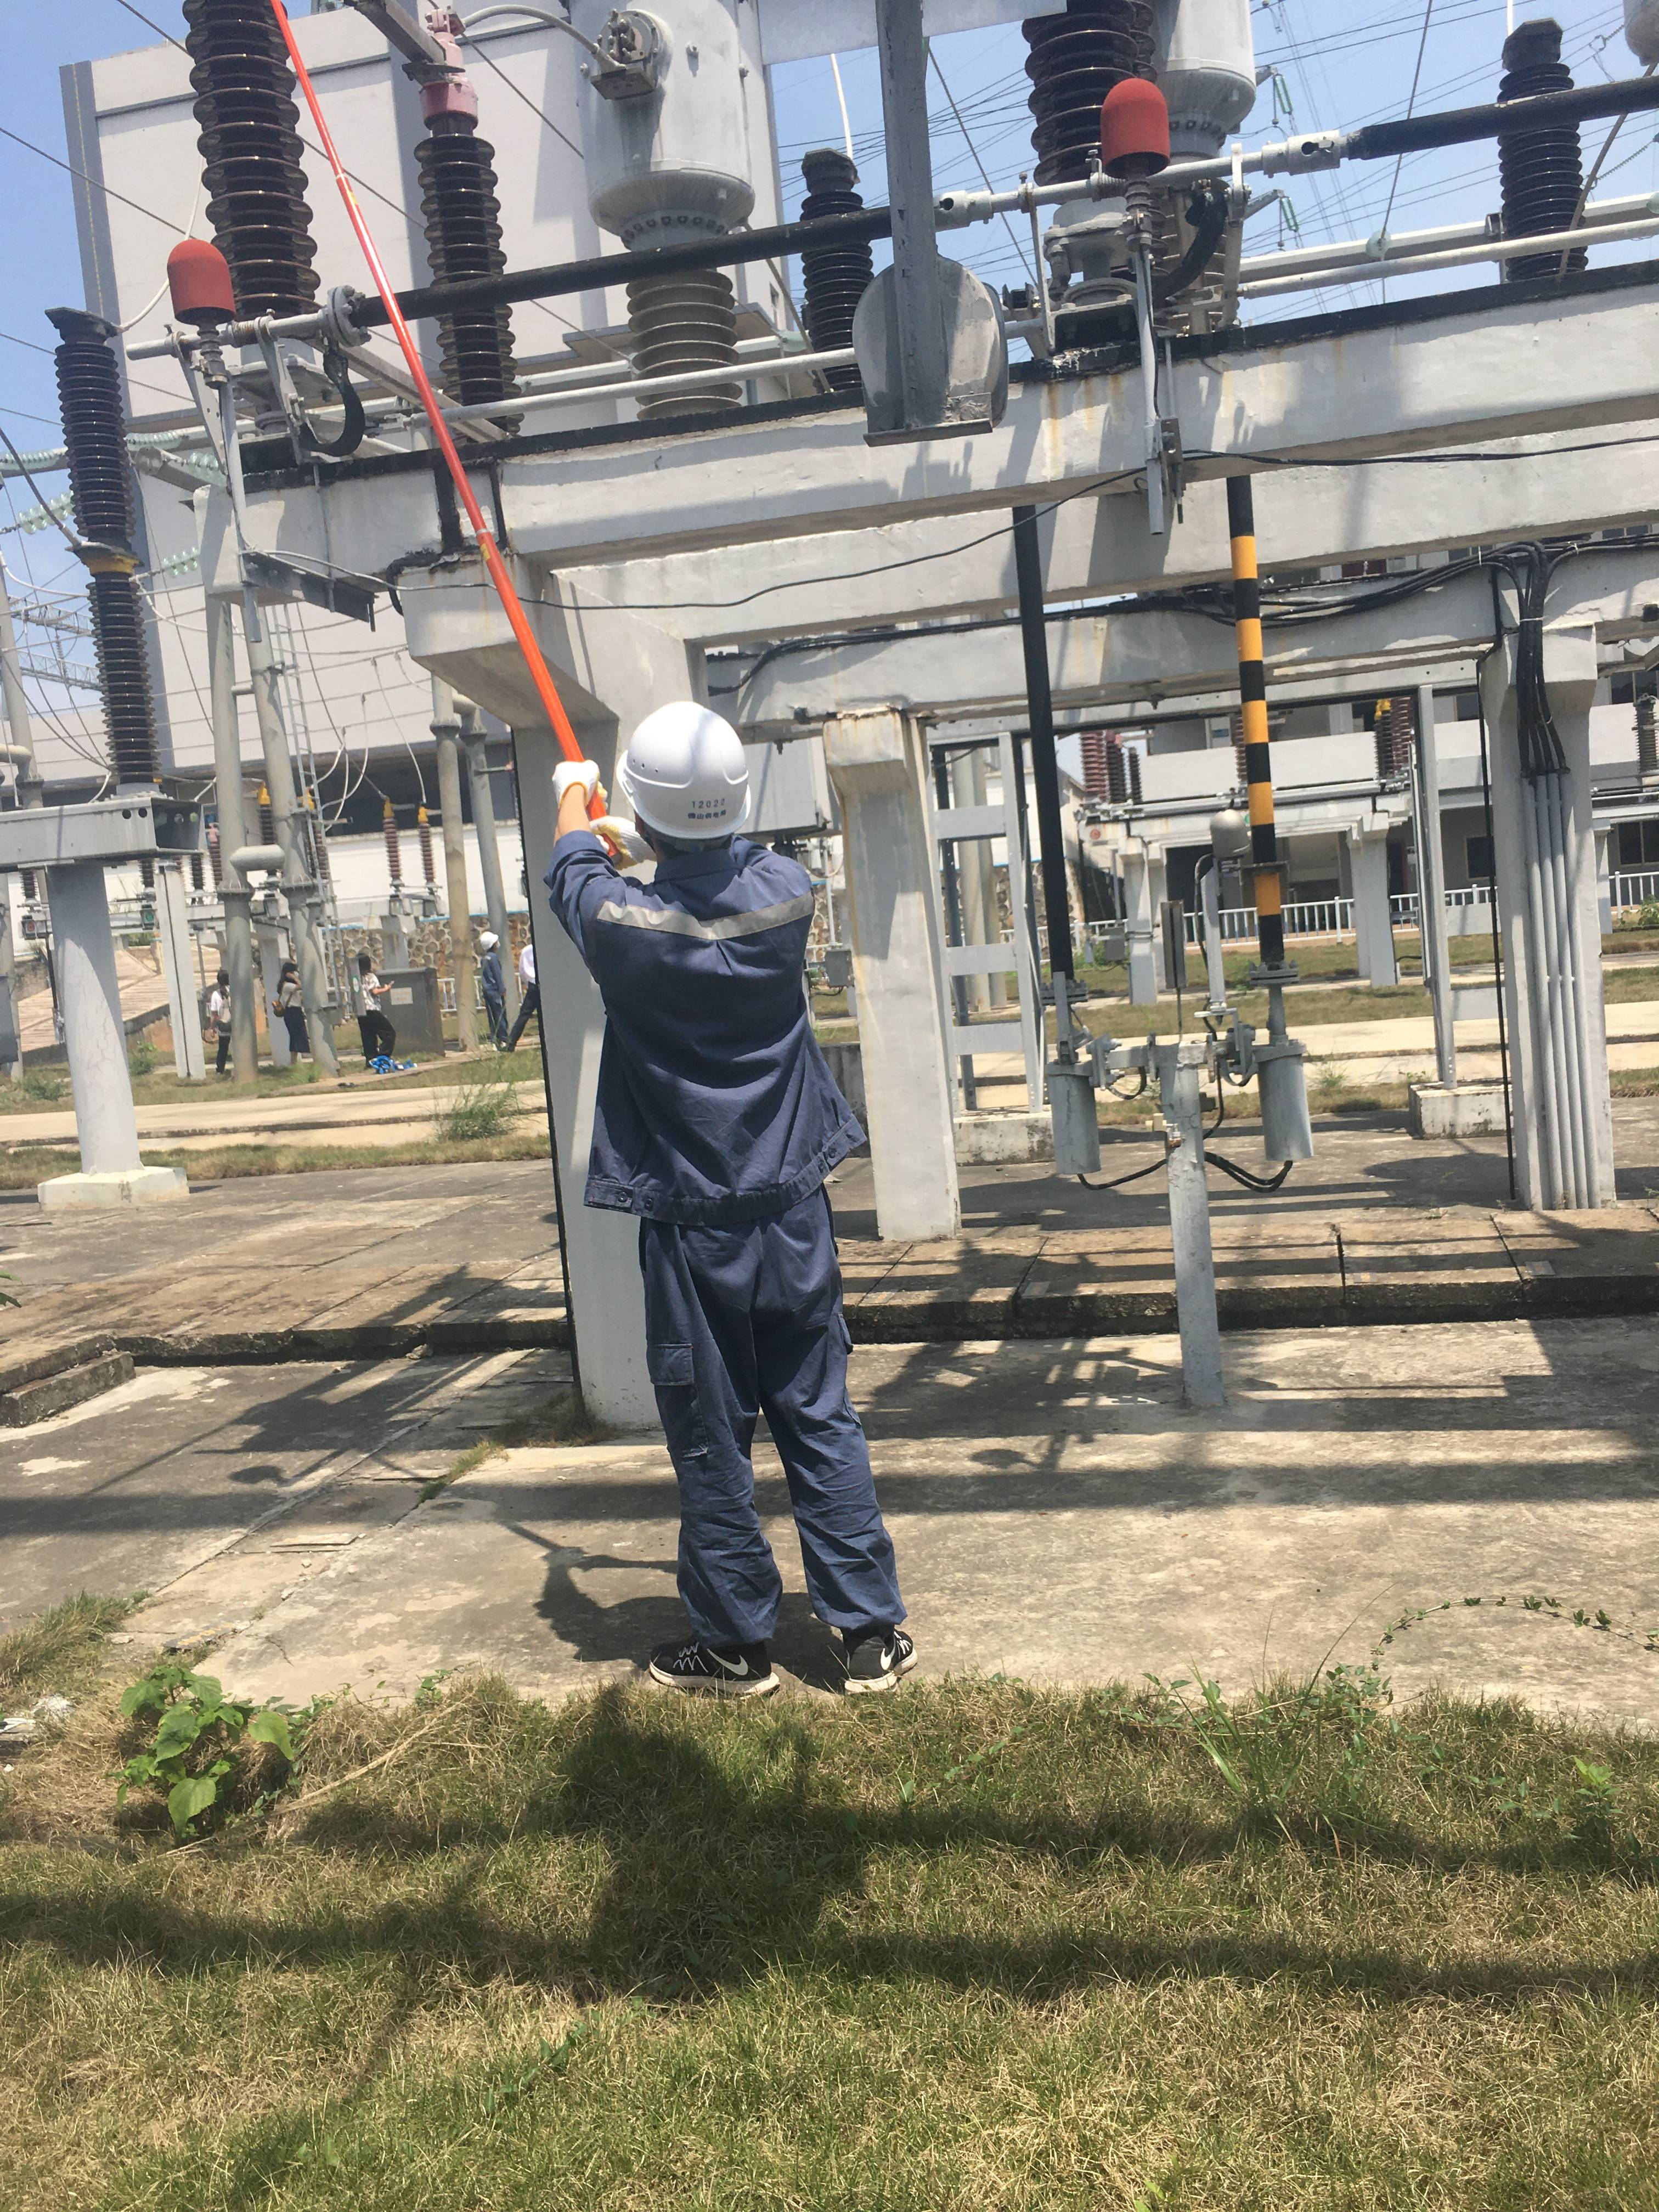downsuit: (638, 1204, 906, 1639)
upsuit: (551, 833, 866, 1188)
wrongtop: (545, 777, 612, 878)
